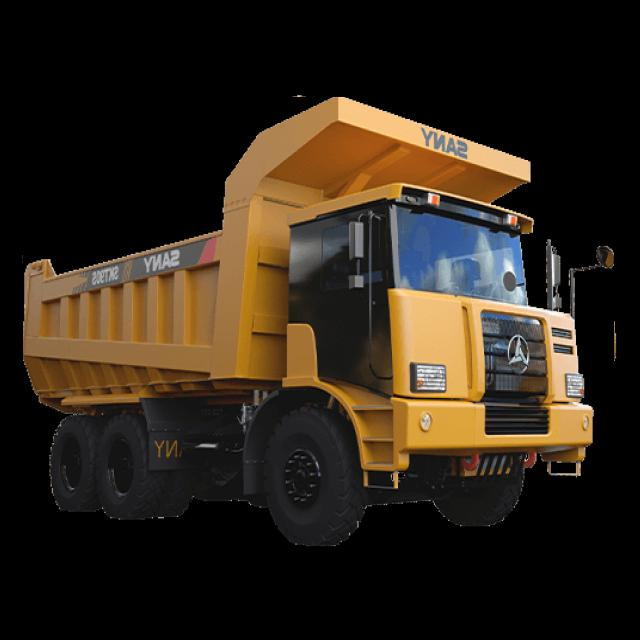truck: (24, 97, 614, 545)
